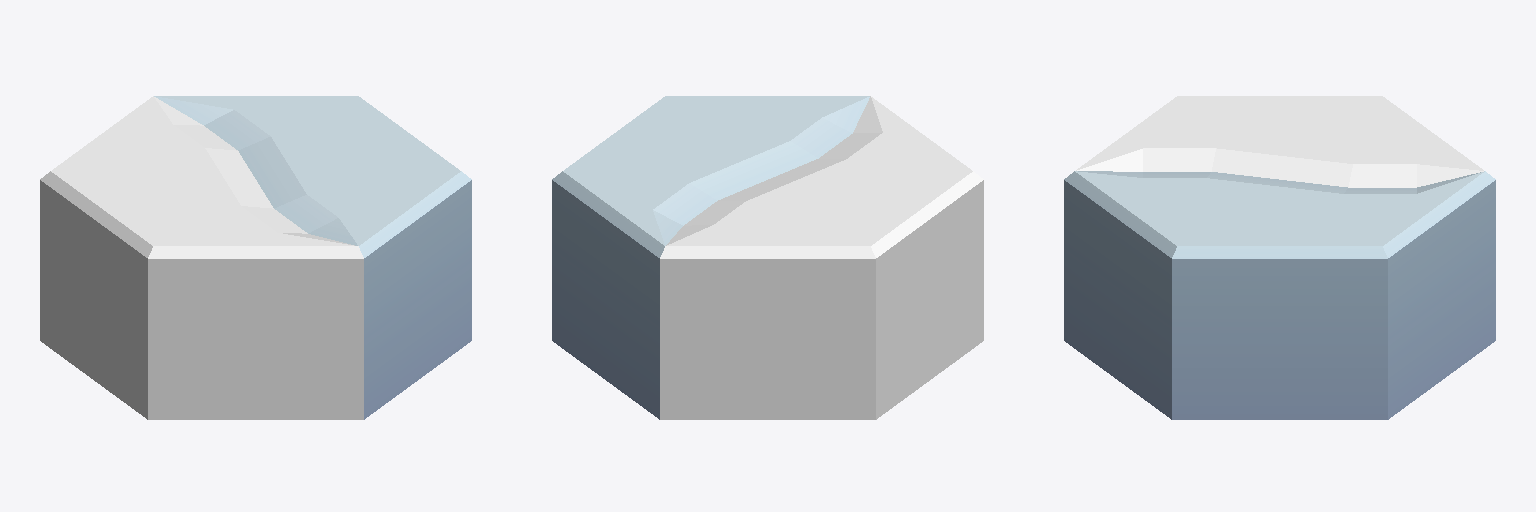
The picture shows the model from 3 angles: view 1: azimuth 30°, elevation 25°; view 2: azimuth 150°, elevation 25°; view 3: azimuth 270°, elevation 25°; orthographic projection.
Visible parts, largest first — view 1: hex_transition; view 2: hex_transition; view 3: hex_transition.
Boxes of the visible parts, <box> form: hex_transition: <box>40,96,471,419</box>; hex_transition: <box>552,96,983,419</box>; hex_transition: <box>1064,96,1495,419</box>.
Bounding box in the file's own units: 2 × 1 × 2.31.
2 materials, 1 textured.